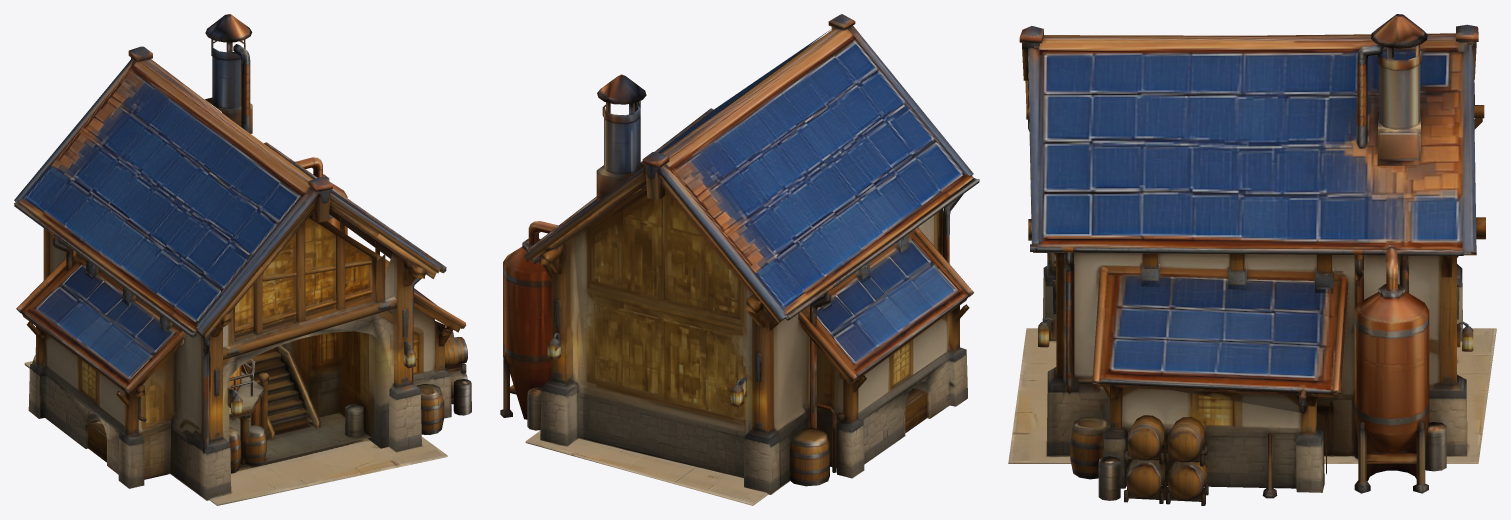
File: brewery.glb
3 views of the same model, side by side, from view 1: azimuth 30°, elevation 25°; view 2: azimuth 150°, elevation 25°; view 3: azimuth 270°, elevation 25° (orthographic). The views are drawn at different scales.
Parts seen in each view (by area): view 1: tripo_8e34595e_e8b7_4830_ba49_b572fe36898b; view 2: tripo_8e34595e_e8b7_4830_ba49_b572fe36898b; view 3: tripo_8e34595e_e8b7_4830_ba49_b572fe36898b.
Part boxes in pixels (x1,y1,x2,y2): tripo_8e34595e_e8b7_4830_ba49_b572fe36898b: (14,14,471,505); tripo_8e34595e_e8b7_4830_ba49_b572fe36898b: (500,14,979,505); tripo_8e34595e_e8b7_4830_ba49_b572fe36898b: (1008,14,1496,505).
Size of the model in its own units: 0.9907 by 0.9282 by 0.9683.
Materials: 1 (1 with a texture image).
